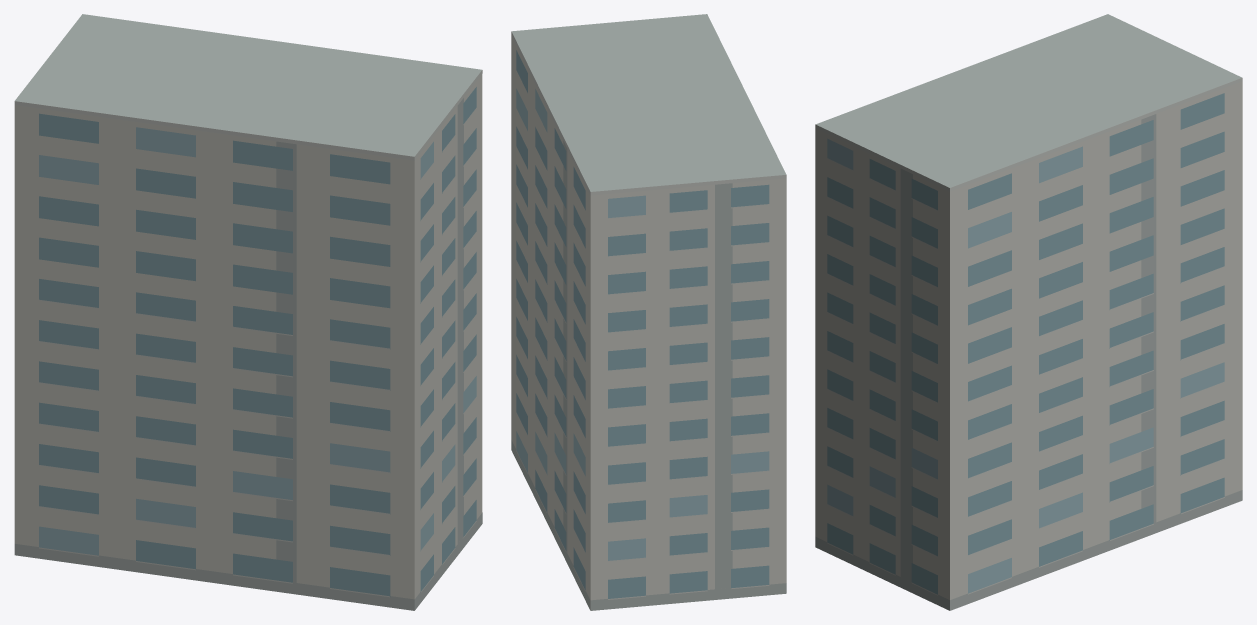
File: residential-1f221a5a-b740-42e0-8746-76009cb79a30.glb
The picture shows the model from 3 angles, left to right: view 1: azimuth 30°, elevation 25°; view 2: azimuth 150°, elevation 25°; view 3: azimuth 270°, elevation 25°; orthographic projection. The views are drawn at different scales.
Parts seen in each view (by area): view 1: residential-1f221a5a-b740-42e0-8746-76009cb79a30.tmp; view 2: residential-1f221a5a-b740-42e0-8746-76009cb79a30.tmp; view 3: residential-1f221a5a-b740-42e0-8746-76009cb79a30.tmp.
Part boxes in pixels (bbox=[...]): residential-1f221a5a-b740-42e0-8746-76009cb79a30.tmp: bbox=[14, 14, 482, 610]; residential-1f221a5a-b740-42e0-8746-76009cb79a30.tmp: bbox=[511, 14, 786, 610]; residential-1f221a5a-b740-42e0-8746-76009cb79a30.tmp: bbox=[815, 14, 1242, 610].
Size of the model in its own units: 24.72 by 28 by 25.63.
